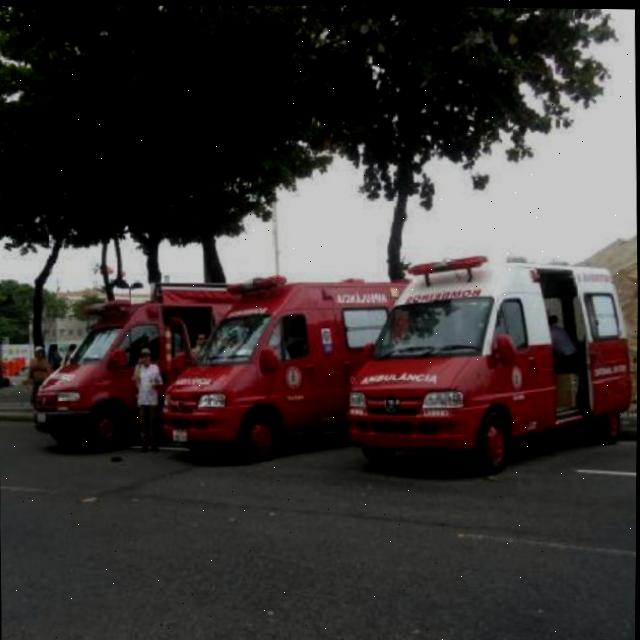emergency: (339, 251, 632, 478), (166, 277, 339, 458), (31, 289, 167, 461)
